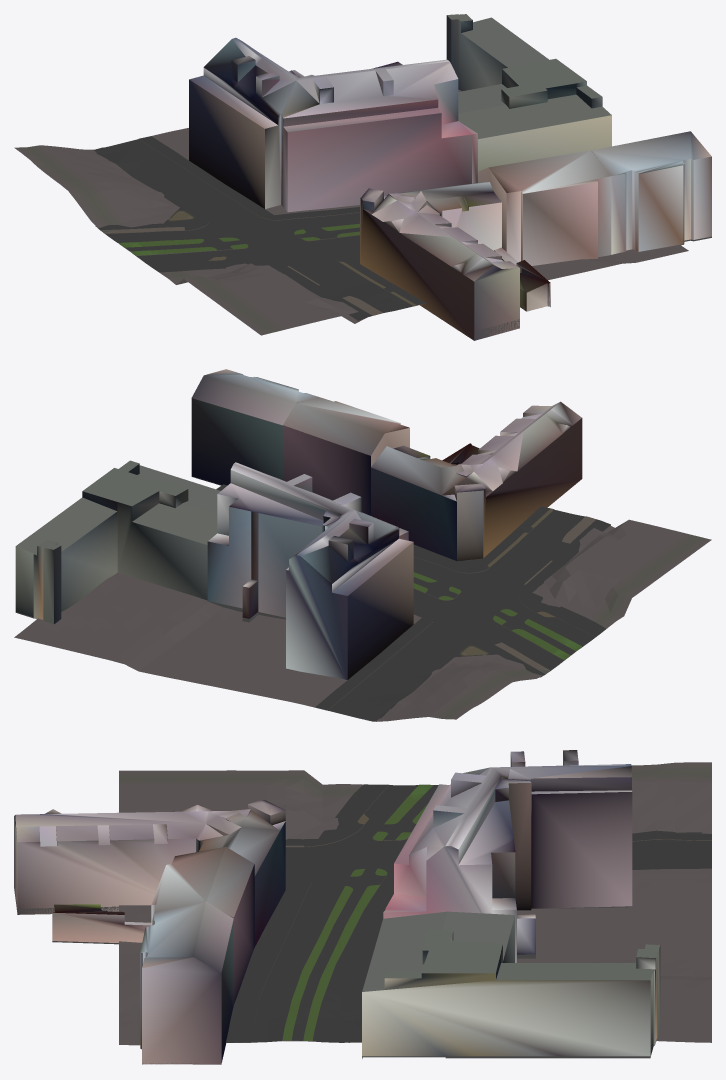
The picture shows the model from 3 angles, top to bottom: view 1: azimuth 30°, elevation 25°; view 2: azimuth 150°, elevation 25°; view 3: azimuth 270°, elevation 25°; orthographic projection. The views are drawn at different scales.
Visible parts, largest first — view 1: c_p00_m18; view 2: c_p00_m18; view 3: c_p00_m18.
Part boxes in pixels (bbox=[...]): c_p00_m18: bbox=[14, 14, 711, 340]; c_p00_m18: bbox=[14, 369, 711, 721]; c_p00_m18: bbox=[14, 750, 711, 1064].
Bounding box in the file's own units: 138 × 33.54 × 151.
